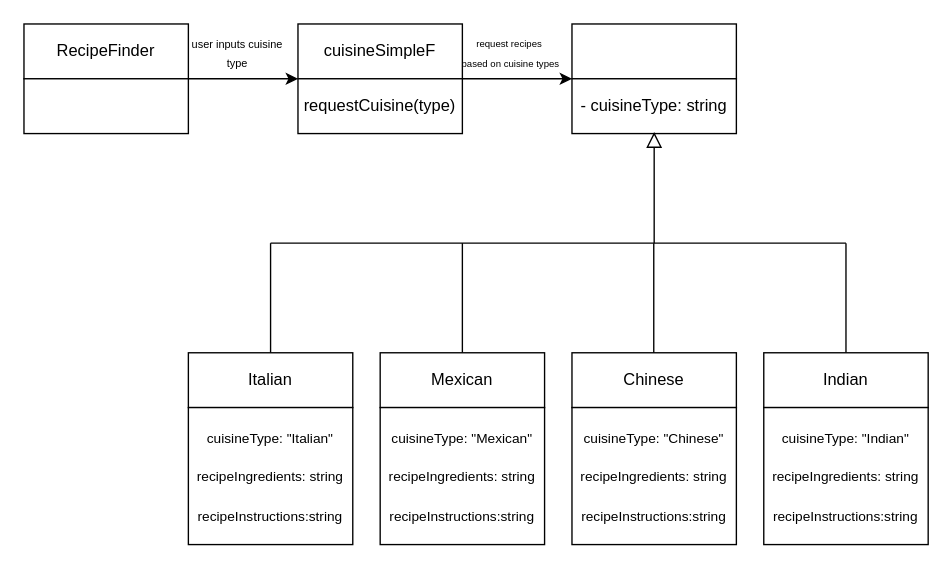
This 952x569 diagram has some shape labels left out. Each missing label, with the centre of its shape:
"<<Abstract>> Cuisine" belongs at pixel 653 51.
"POST/api" belongs at pixel 105 105.
